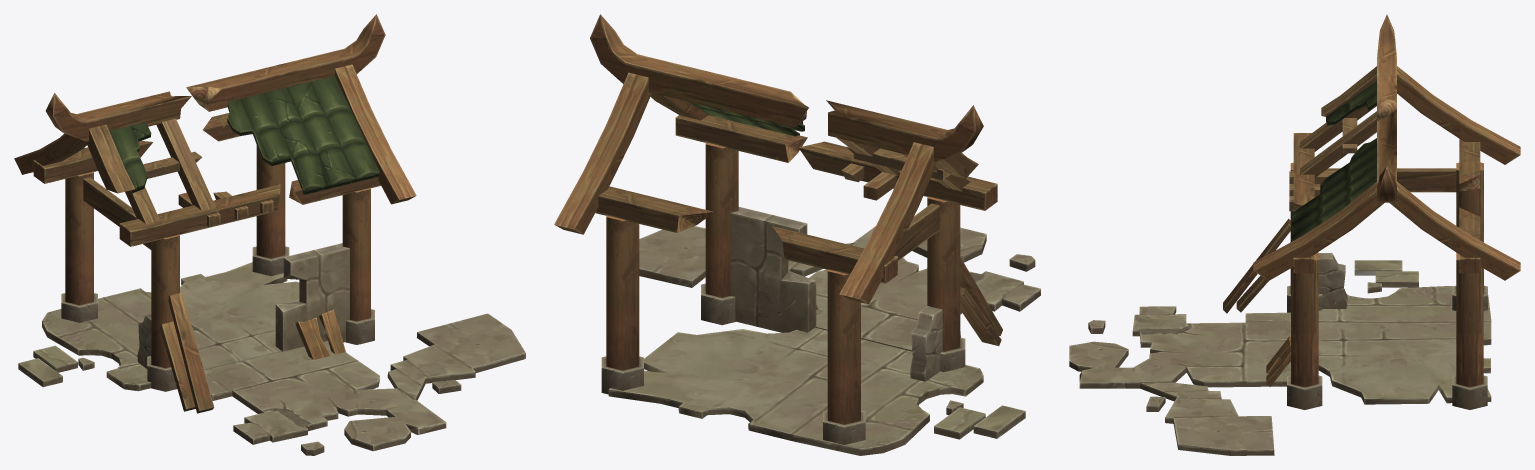
File: Stage_CaoYuan_FeiXu01.FBX
3 renders of one model, left to right at view 1: azimuth 30°, elevation 25°; view 2: azimuth 150°, elevation 25°; view 3: azimuth 270°, elevation 25°, orthographic. The views are drawn at different scales.
Parts seen in each view (by area): view 1: Stage_CaoYuan_FeiXu01; view 2: Stage_CaoYuan_FeiXu01; view 3: Stage_CaoYuan_FeiXu01.
Part boxes in pixels (<box>): Stage_CaoYuan_FeiXu01: <box>14,14,525,455</box>; Stage_CaoYuan_FeiXu01: <box>554,14,1040,455</box>; Stage_CaoYuan_FeiXu01: <box>1069,14,1520,455</box>.
Bounding box in the file's own units: 688 × 450 × 691.
